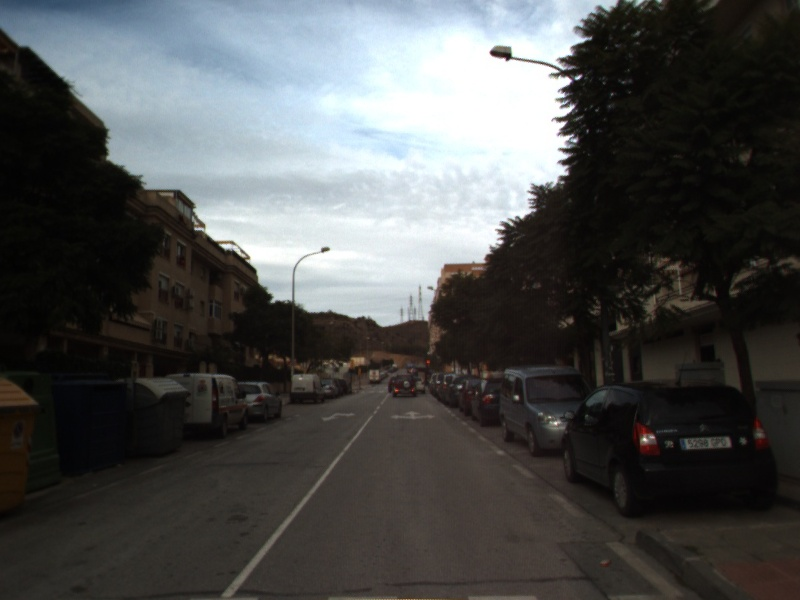STRAIGHT_LEFT_RIGHT: (389, 408, 437, 422)
